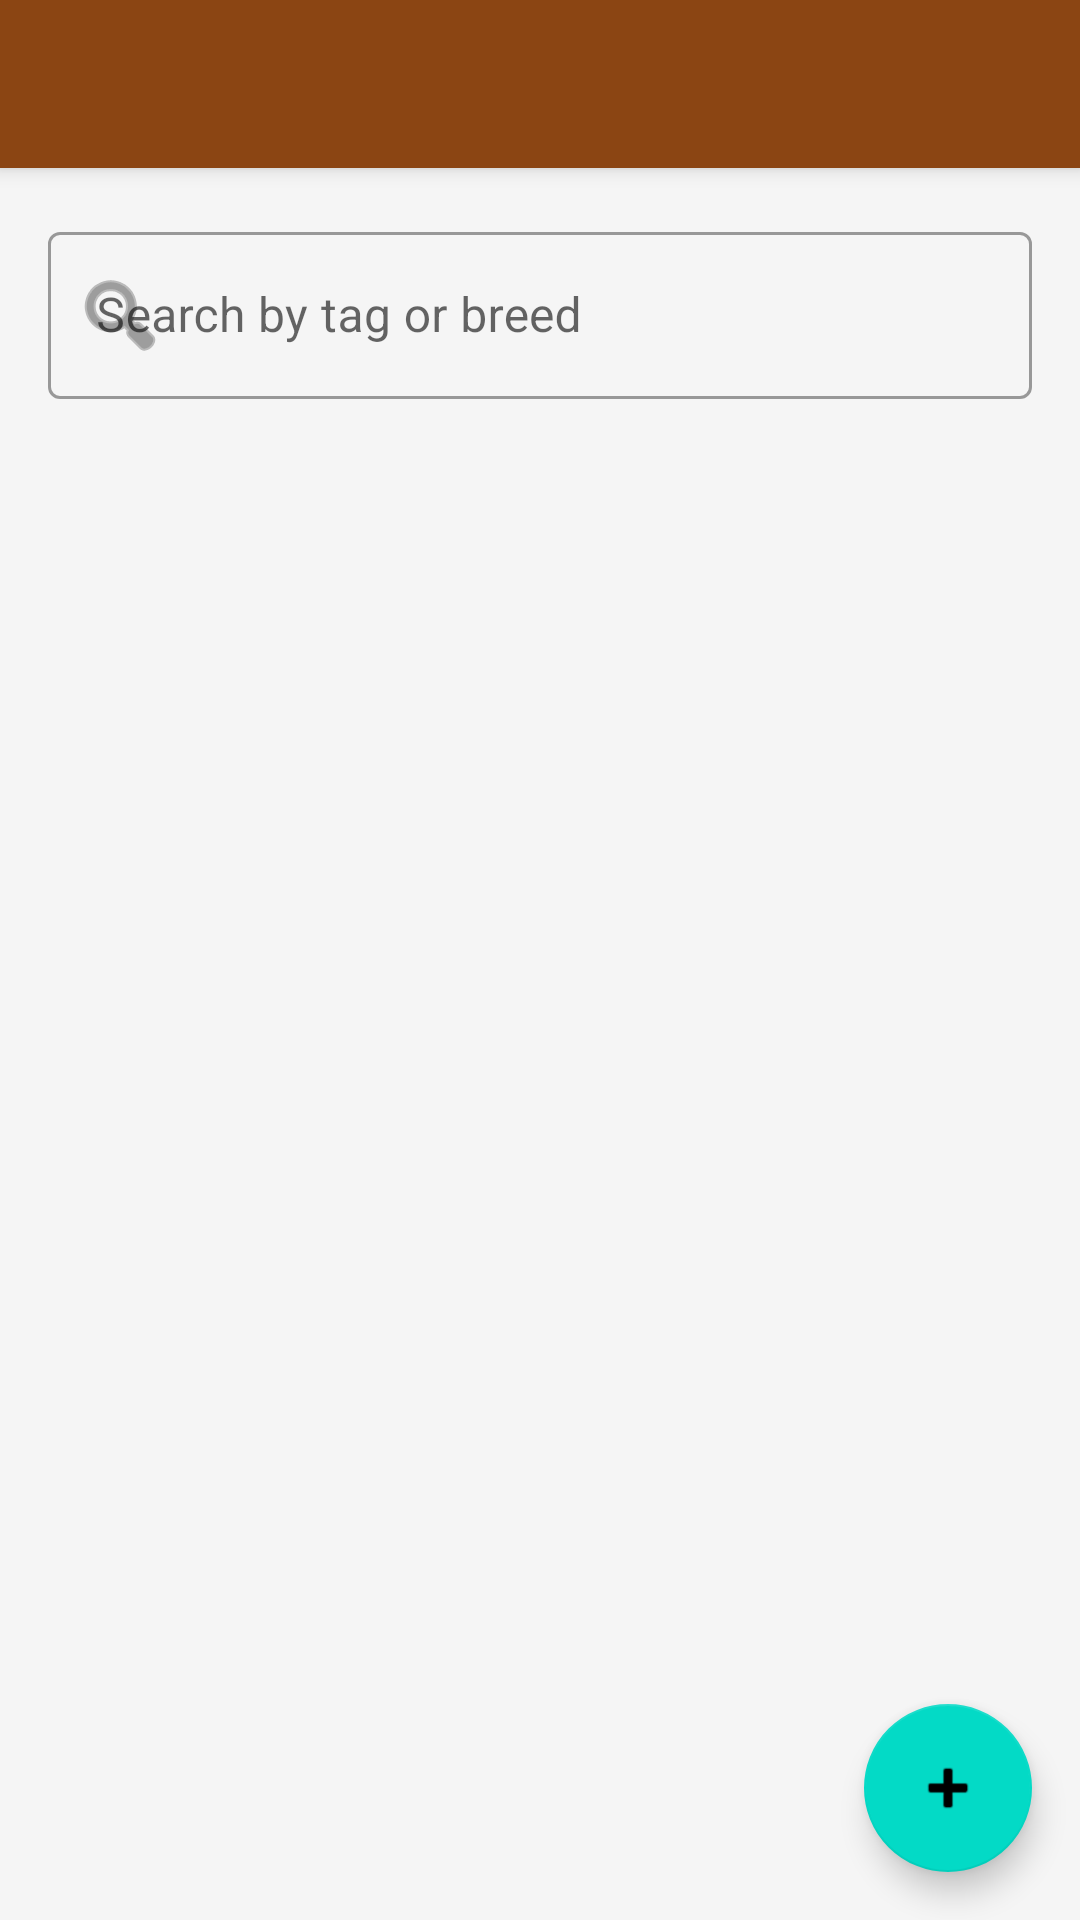

Icons on this 1080×1920 Android screen, each with its box as (x1, y1, x2, y2):
Add Pig: (864, 1704, 1032, 1872)
